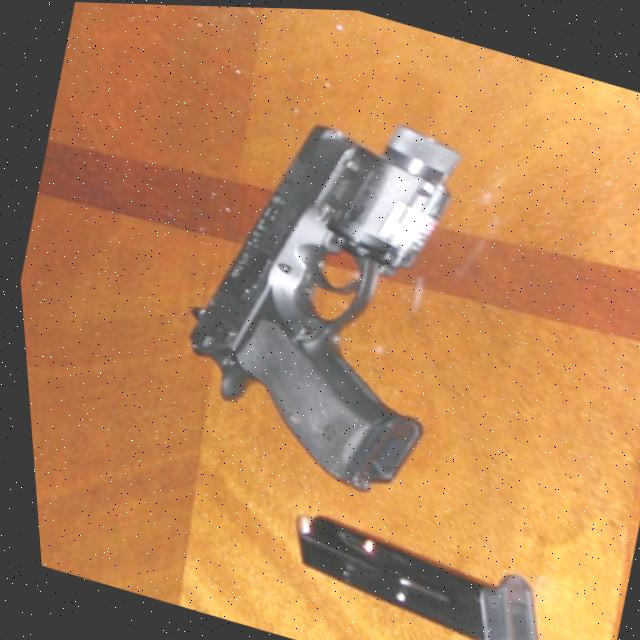pistol: (140, 73, 496, 505)
